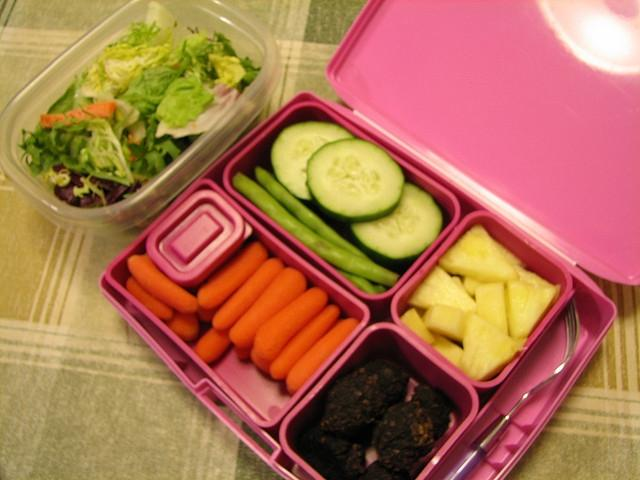carrot: (228, 267, 306, 349), (284, 317, 360, 396), (254, 286, 328, 362), (268, 304, 340, 380), (212, 258, 284, 331), (197, 241, 269, 310), (127, 254, 198, 315), (40, 101, 117, 129), (125, 276, 173, 320), (194, 328, 232, 364), (162, 309, 200, 343), (250, 348, 272, 374), (195, 304, 222, 322), (234, 345, 253, 360)
cucumber: (346, 182, 444, 270), (306, 138, 406, 224), (272, 122, 354, 199)
lettuce: (50, 103, 134, 183), (99, 20, 178, 95), (116, 55, 190, 116), (155, 74, 216, 129), (208, 54, 246, 89)
pineapple: (438, 223, 520, 284), (460, 312, 528, 381), (408, 266, 477, 316), (505, 280, 557, 339), (419, 304, 465, 344), (474, 282, 509, 334), (400, 308, 436, 346), (428, 330, 464, 368), (514, 264, 556, 286), (463, 276, 480, 298)
